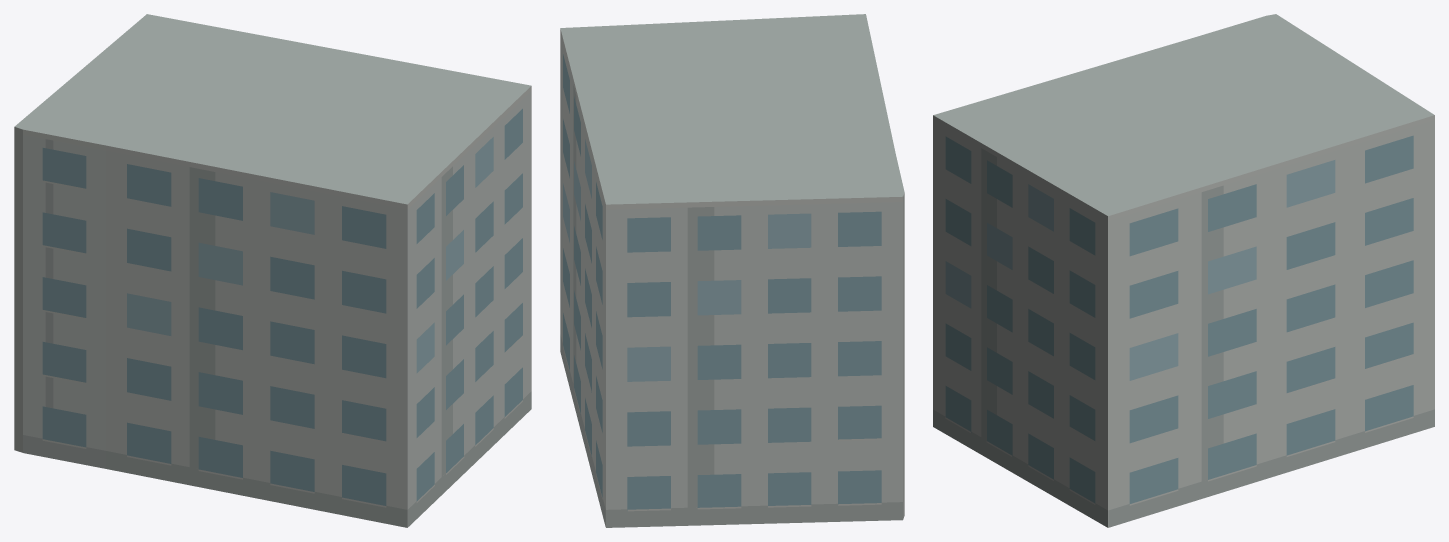
Rendered from survey-upis-32782119.glb.
3 views of the same model, side by side, from view 1: azimuth 30°, elevation 25°; view 2: azimuth 150°, elevation 25°; view 3: azimuth 270°, elevation 25° (orthographic). The views are drawn at different scales.
Parts seen in each view (by area): view 1: survey-upis-32782119.tmp; view 2: survey-upis-32782119.tmp; view 3: survey-upis-32782119.tmp.
Boxes of the visible parts, bbox=[...] form: survey-upis-32782119.tmp: bbox=[14, 14, 531, 527]; survey-upis-32782119.tmp: bbox=[560, 14, 904, 527]; survey-upis-32782119.tmp: bbox=[933, 14, 1434, 527].
Bounding box in the file's own units: 21.23 × 15.25 × 22.26.
